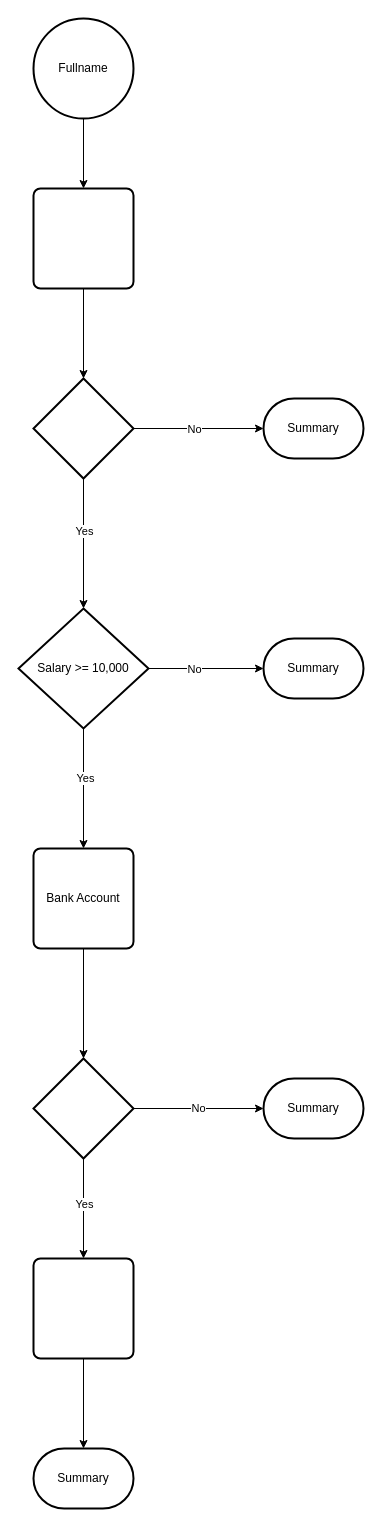
The diagram is 381 pixels wide and 1526 high, and some of its shapes have lost their labels. The centre of each missing label's shape, as x and y in pixels:
"Address" belongs at (x=83, y=238).
"Age >= 18" belongs at (x=83, y=428).
"Home Valuation" belongs at (x=83, y=1308).
"Owns Home?" belongs at (x=83, y=1108).
